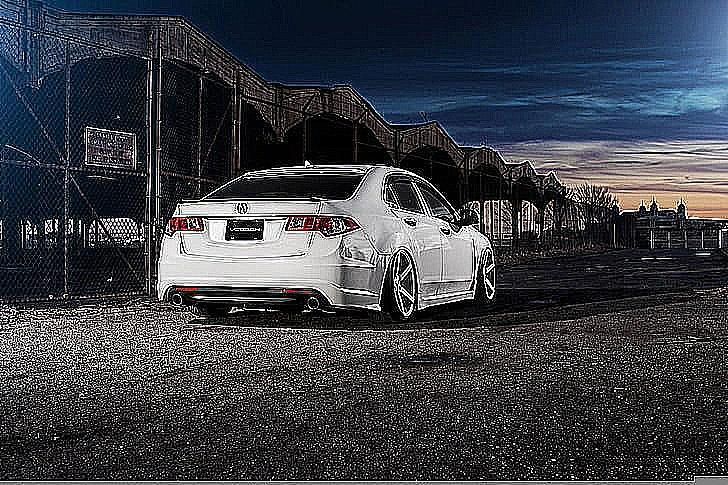Car boot: (175, 192, 323, 263)
Driver-s door - -F-R-: (416, 167, 482, 317)
Fender - -F-R-: (466, 222, 495, 293)
Fender - -R-R-: (334, 168, 423, 267)
Passenger-s door - -R-R-: (369, 160, 448, 318)
Rear bumper: (153, 245, 392, 318)
Rear light - -L-: (163, 214, 206, 239)
Rear light - -R-: (286, 212, 360, 242)
Side bumper - -R-: (416, 275, 479, 319)
Side mirror - -R-: (445, 204, 480, 236)
